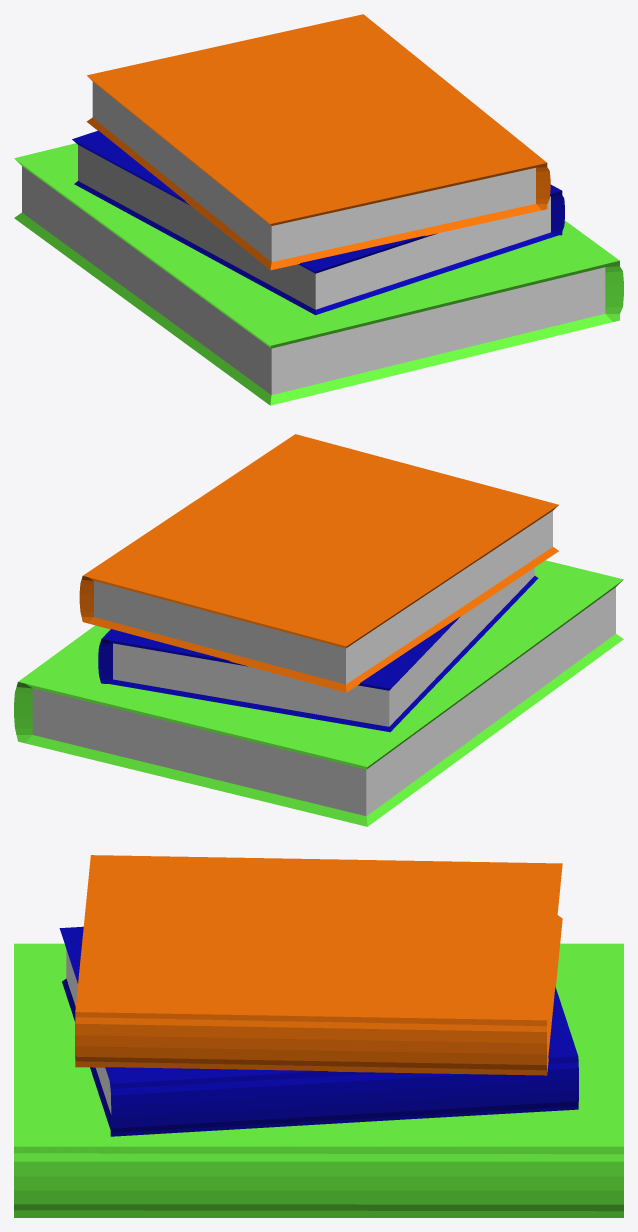
File: cuadernosx3.fbx
3 renders of one model, top to bottom at view 1: azimuth 30°, elevation 25°; view 2: azimuth 150°, elevation 25°; view 3: azimuth 270°, elevation 25°, orthographic. The views are drawn at different scales.
Visible parts, largest first — view 1: Cubo.013, Cubo.019, Cubo.018; view 2: Cubo.013, Cubo.019, Cubo.018; view 3: Cubo.013, Cubo.019, Cubo.018.
Part boxes in pixels (x1,y1,x2,y2): Cubo.013: (86,14,550,270); Cubo.019: (14,143,623,405); Cubo.018: (72,130,564,315); Cubo.013: (79,434,558,692); Cubo.019: (14,560,623,826); Cubo.018: (98,568,538,732); Cubo.013: (75,855,562,1075); Cubo.019: (14,943,623,1217); Cubo.018: (59,926,578,1136).
Bounding box in the file's own units: 108 × 43.74 × 135.
